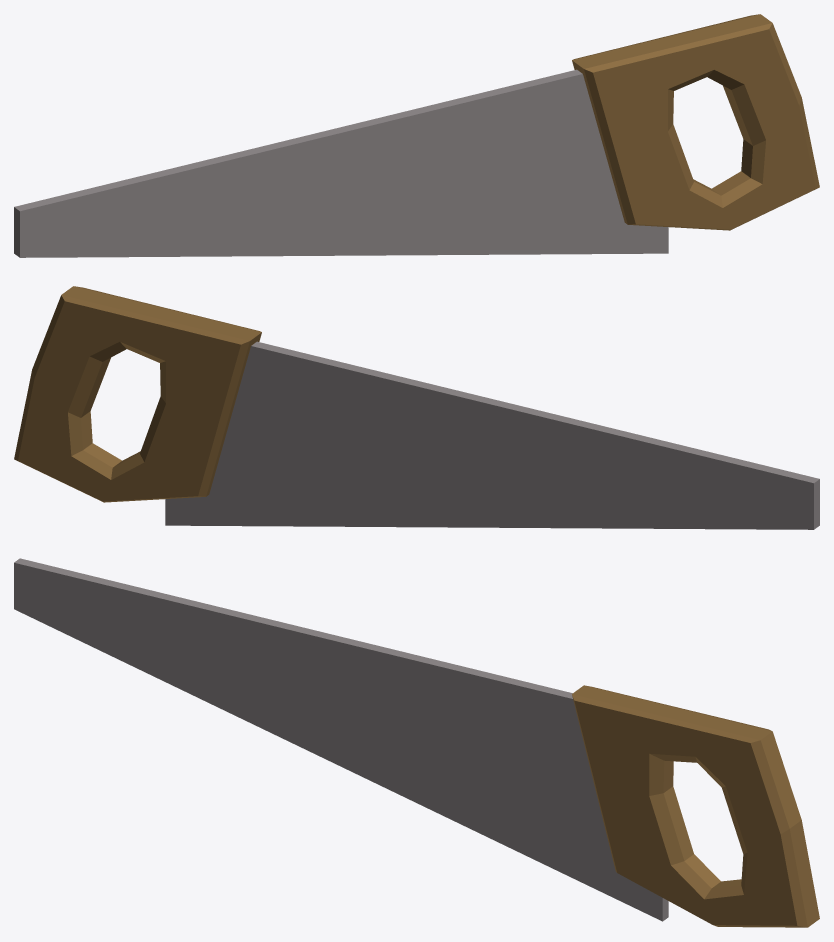
File: Saw.fbx
The picture shows the model from 3 angles, top to bottom: view 1: azimuth 30°, elevation 25°; view 2: azimuth 150°, elevation 25°; view 3: azimuth 330°, elevation 25°; orthographic projection.
Parts seen in each view (by area): view 1: Saw; view 2: Saw; view 3: Saw.
Part boxes in pixels (<box>): Saw: <box>14,14,819,257</box>; Saw: <box>14,286,819,529</box>; Saw: <box>14,558,819,927</box>.
Size of the model in its own units: 61.85 by 15.45 by 2.5.
